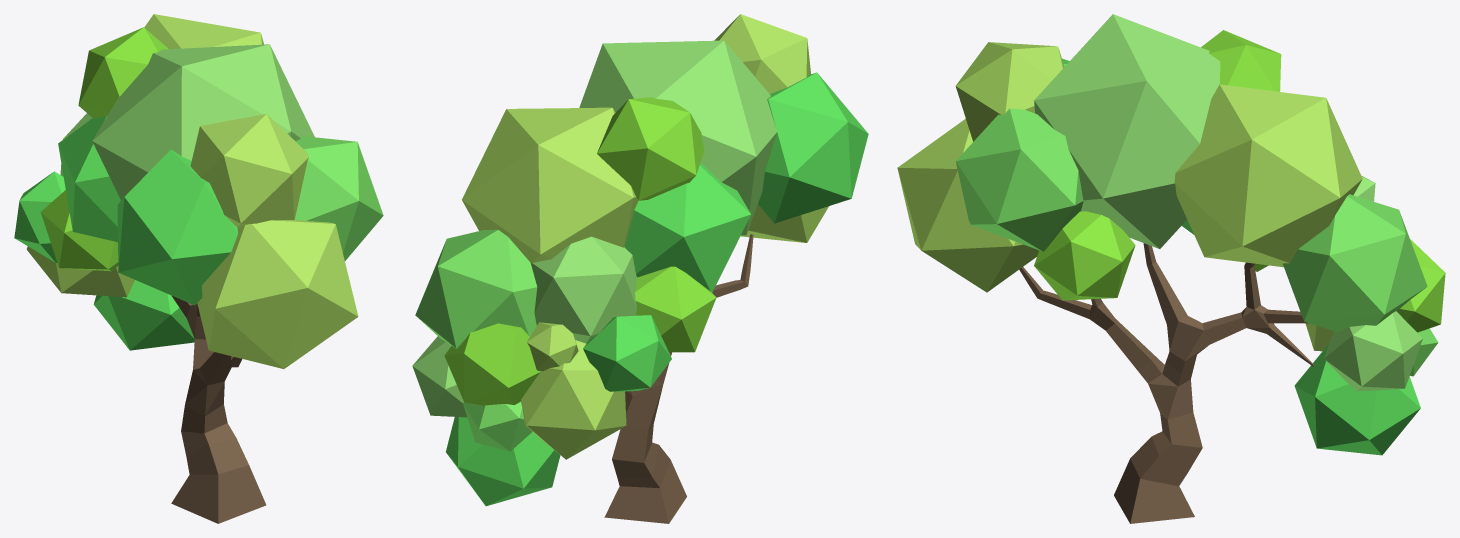
Rendered from tree.fbx.
The picture shows the model from 3 angles, left to right: view 1: azimuth 30°, elevation 25°; view 2: azimuth 150°, elevation 25°; view 3: azimuth 270°, elevation 25°; orthographic projection.
Parts seen in each view (by area): view 1: Icosphere.006, Icosphere.004, Icosphere.007, Cube, Icosphere.009, Icosphere.008, Icosphere.010, Icosphere.003, Icosphere.011, Icosphere.017, Icosphere, Icosphere.018 (+1 smaller); view 2: Icosphere, Icosphere.004, Icosphere.007, Icosphere.001, Icosphere.010, Icosphere.012, Icosphere.011, Cube, Icosphere.016, Icosphere.003, Icosphere.002, Icosphere.018 (+6 smaller); view 3: Icosphere.004, Icosphere, Cube, Icosphere.001, Icosphere.008, Icosphere.006, Icosphere.003, Icosphere.005, Icosphere.009, Icosphere.015, Icosphere.011, Icosphere.002.
Boxes of the visible parts, x1,y1,x2,y2 form: Icosphere.006: [197, 219, 358, 368]; Icosphere.004: [92, 44, 314, 200]; Icosphere.007: [117, 150, 237, 305]; Cube: [171, 296, 266, 523]; Icosphere.009: [190, 114, 308, 227]; Icosphere.008: [295, 136, 383, 260]; Icosphere.010: [58, 116, 120, 242]; Icosphere.003: [93, 280, 194, 350]; Icosphere.011: [78, 27, 168, 118]; Icosphere.017: [40, 190, 118, 271]; Icosphere: [144, 14, 263, 49]; Icosphere.018: [14, 171, 65, 262]; Icosphere: [462, 107, 638, 262]; Icosphere.004: [579, 40, 776, 235]; Icosphere.007: [758, 72, 868, 223]; Icosphere.001: [415, 229, 537, 348]; Icosphere.010: [624, 163, 751, 292]; Icosphere.012: [531, 236, 637, 343]; Icosphere.011: [597, 97, 704, 200]; Cube: [604, 234, 753, 523]; Icosphere.016: [521, 340, 626, 459]; Icosphere.003: [446, 417, 560, 506]; Icosphere.002: [444, 323, 540, 405]; Icosphere.018: [583, 315, 671, 391]; Icosphere.004: [1034, 14, 1220, 248]; Icosphere: [1174, 84, 1362, 267]; Cube: [1019, 243, 1314, 523]; Icosphere.001: [1283, 194, 1427, 332]; Icosphere.008: [955, 108, 1083, 251]; Icosphere.006: [897, 118, 1038, 292]; Icosphere.003: [1294, 343, 1420, 455]; Icosphere.005: [1034, 211, 1135, 300]; Icosphere.009: [955, 42, 1064, 141]; Icosphere.015: [1324, 311, 1422, 391]; Icosphere.011: [1201, 30, 1281, 91]; Icosphere.002: [1397, 239, 1445, 332].
Size of the model in its own units: 198 by 329 by 352.
